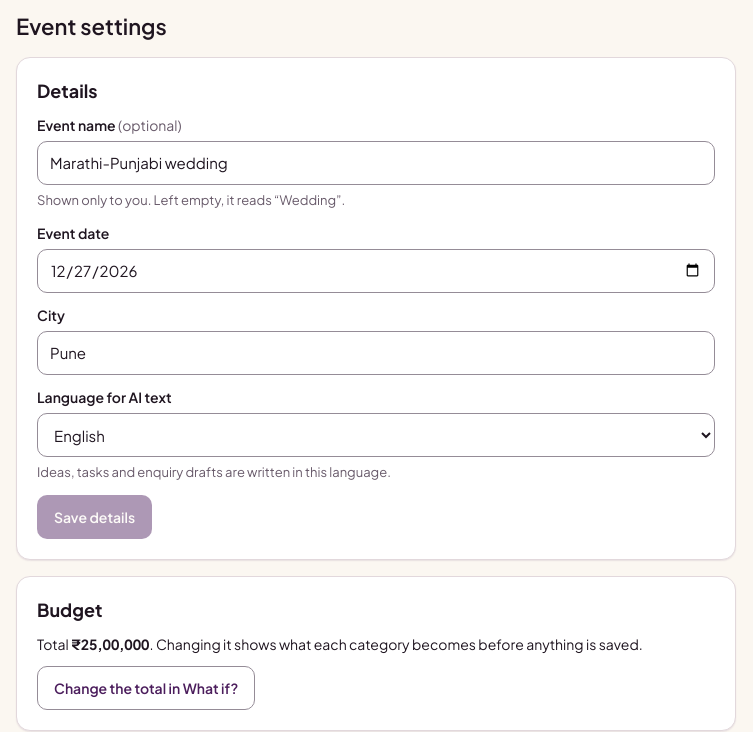
Scenario: Event settings: failures and existing links › switching the AI language to Hindi and back leaves nothing to save
Step 1. Select "Hindi" in the dropdown labelled "Language for AI text" → (376, 436), box [37,414,715,458]
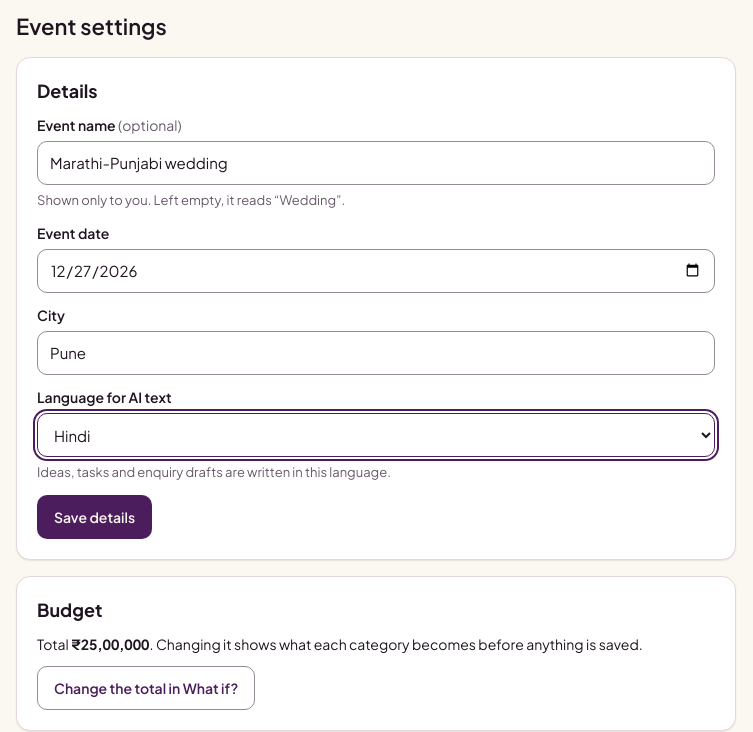
Result: the button "Save details" is enabled at [37,495,152,539]
Step 2. Select "English" in the dropdown labelled "Language for AI text" → (376, 436), box [37,414,715,458]
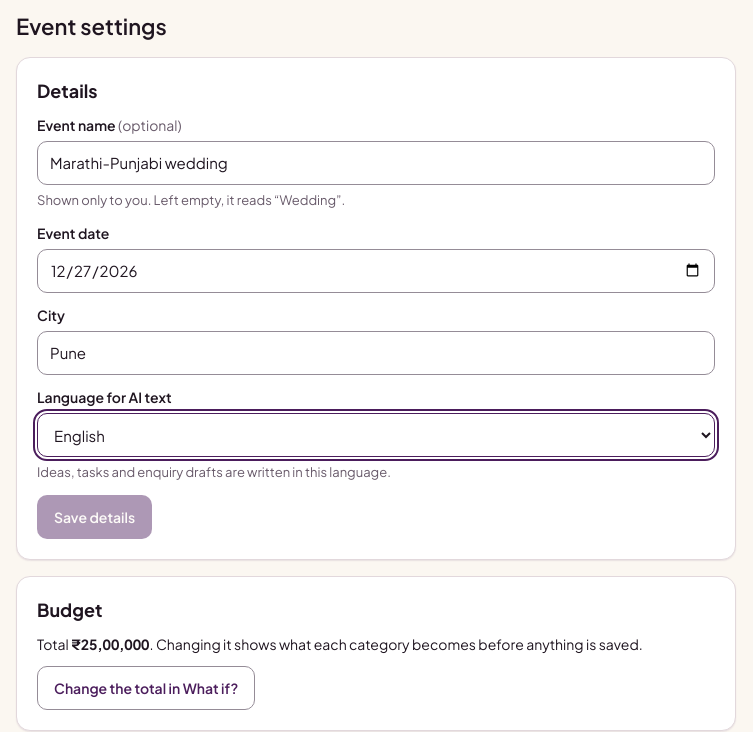
Result: the button "Save details" is disabled at [37,495,152,539]
